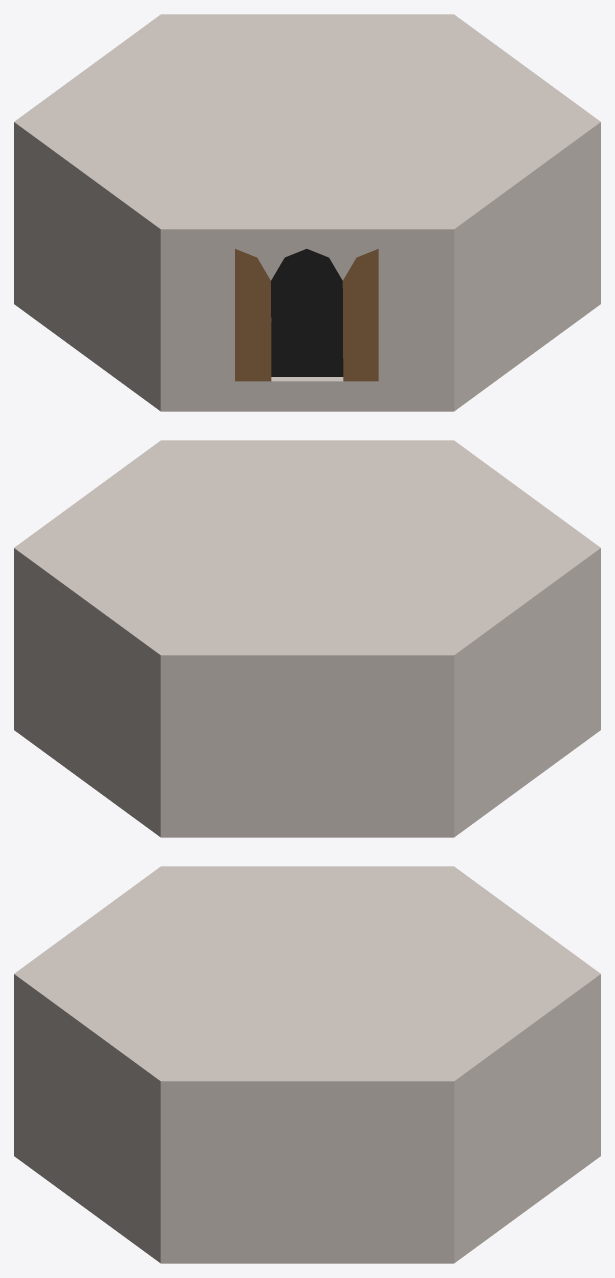
Rendered from RPG_Tiles_Hex_Building_Window_03.FBX.
The picture shows the model from 3 angles, top to bottom: view 1: azimuth 30°, elevation 25°; view 2: azimuth 150°, elevation 25°; view 3: azimuth 270°, elevation 25°; orthographic projection.
Visible parts, largest first — view 1: RPG_Tiles_Hex_Building_Window_03; view 2: RPG_Tiles_Hex_Building_Window_03; view 3: RPG_Tiles_Hex_Building_Window_03.
Boxes of the visible parts, x1=… form: RPG_Tiles_Hex_Building_Window_03: x1=14, y1=14, x2=600, y2=411; RPG_Tiles_Hex_Building_Window_03: x1=14, y1=440, x2=600, y2=837; RPG_Tiles_Hex_Building_Window_03: x1=14, y1=866, x2=600, y2=1263.
Size of the model in its own units: 3000 by 1186 by 3464.
